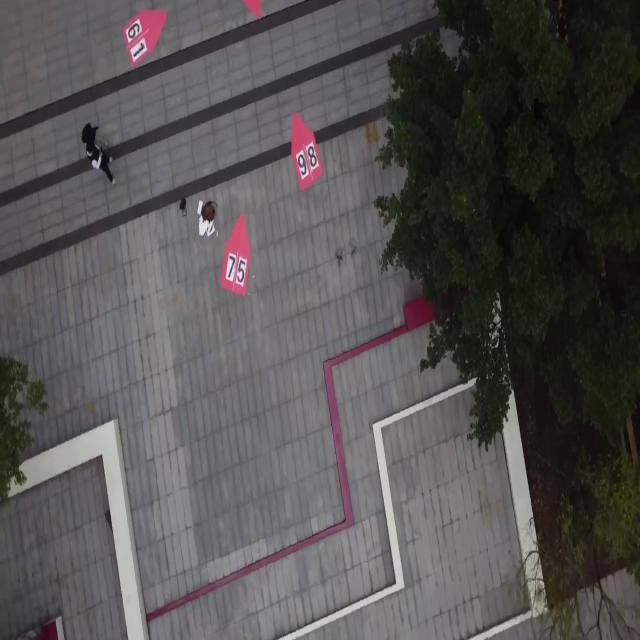-sign-: (220, 212, 252, 300), (290, 111, 324, 192), (125, 8, 169, 69), (11, 617, 63, 640), (238, 1, 262, 20)
